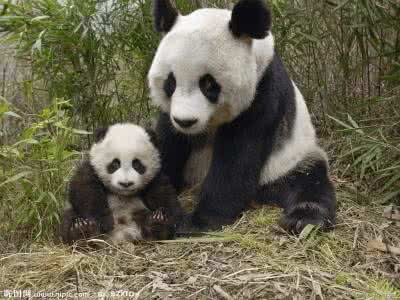panda: (147, 1, 337, 234), (61, 118, 184, 250)
